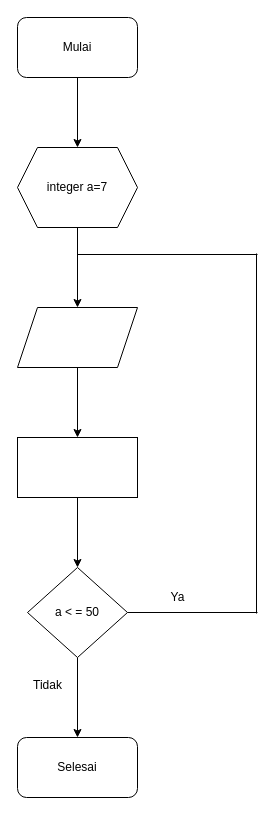
Some shapes in this 276 by 815 pixel diagram are drawn without their labels. The centre of each missing label's shape, as x and y in pixels:
a = a + 7: pixel 77 467
Write (a) Write (endl): pixel 77 337
